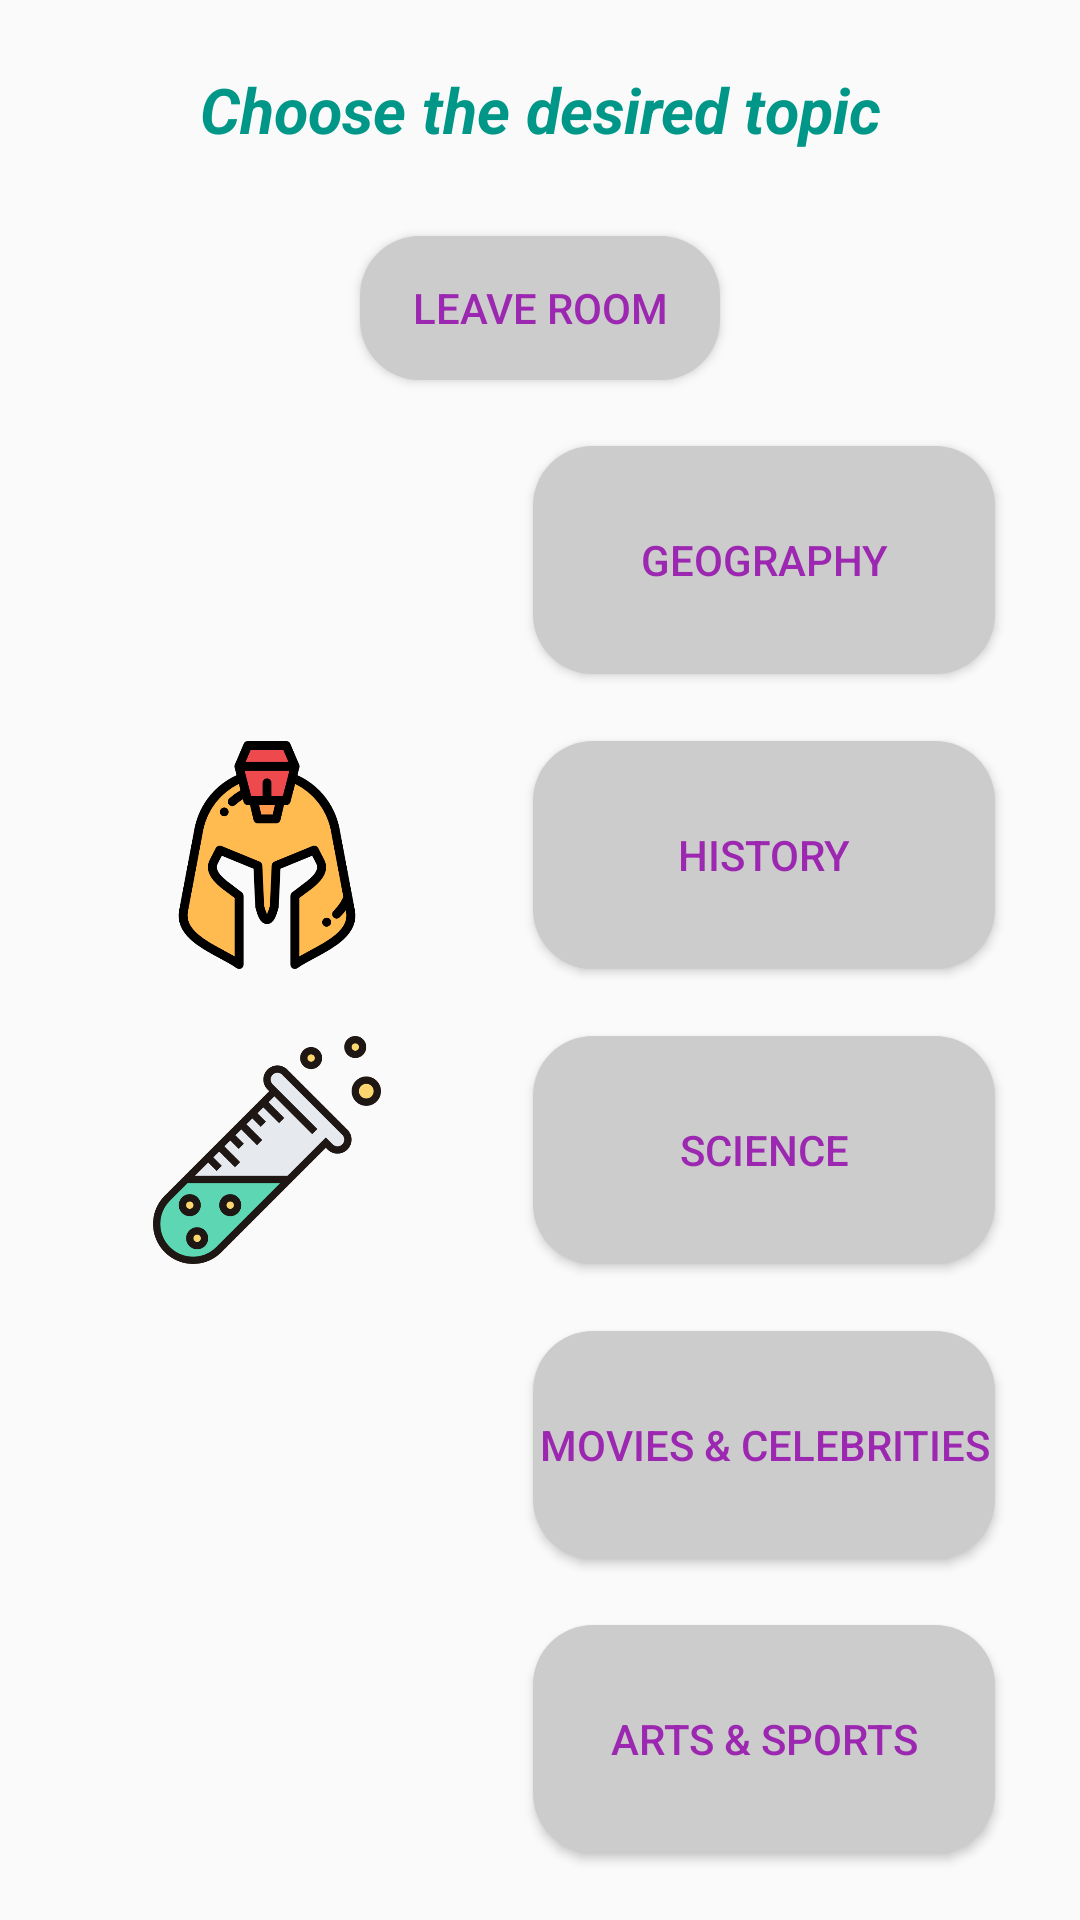

Named icons in this screenshot (1080 x 1920) and their bounding boxes, [left=x1, top=y1, right=x2, bottom=y2]:
greek: [left=178, top=741, right=356, bottom=969]
